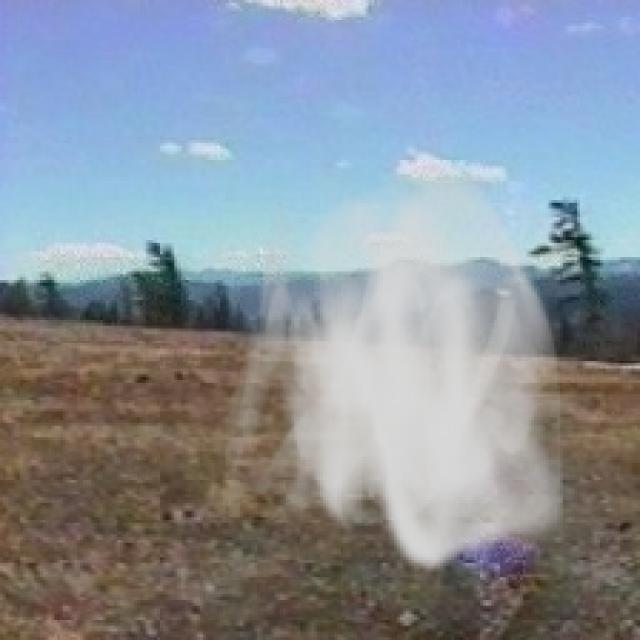Smoke: (220, 157, 574, 574)
